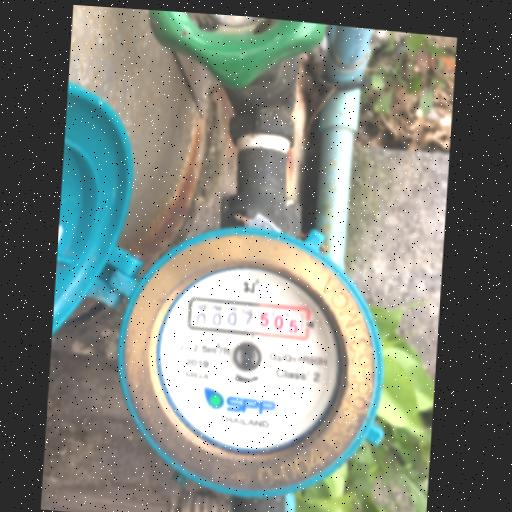0: (224, 307, 237, 328), (272, 312, 285, 332), (194, 305, 207, 324), (211, 306, 222, 326)
5: (257, 310, 270, 331), (287, 314, 300, 334)
7: (241, 309, 252, 329)
border_water_meter_number: (186, 295, 311, 341)
